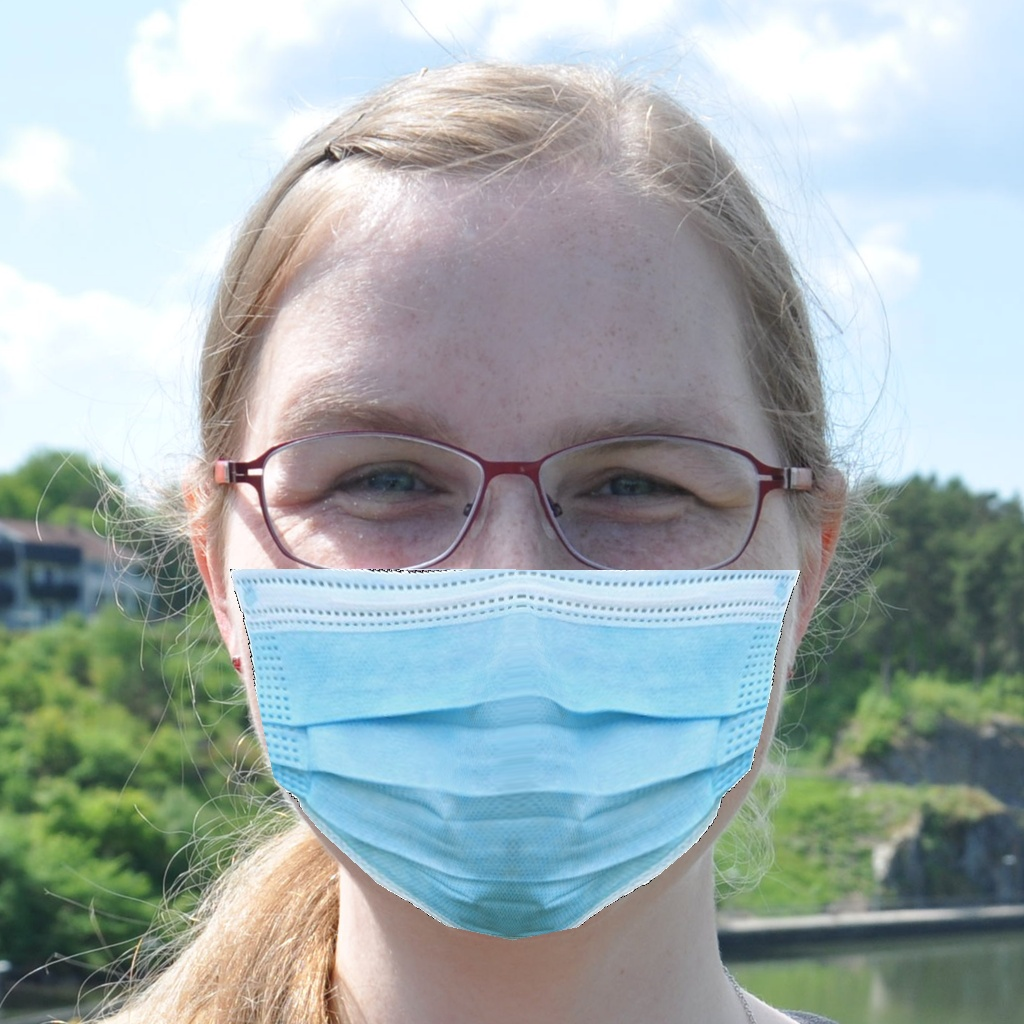Mask: (227, 344, 806, 936)
